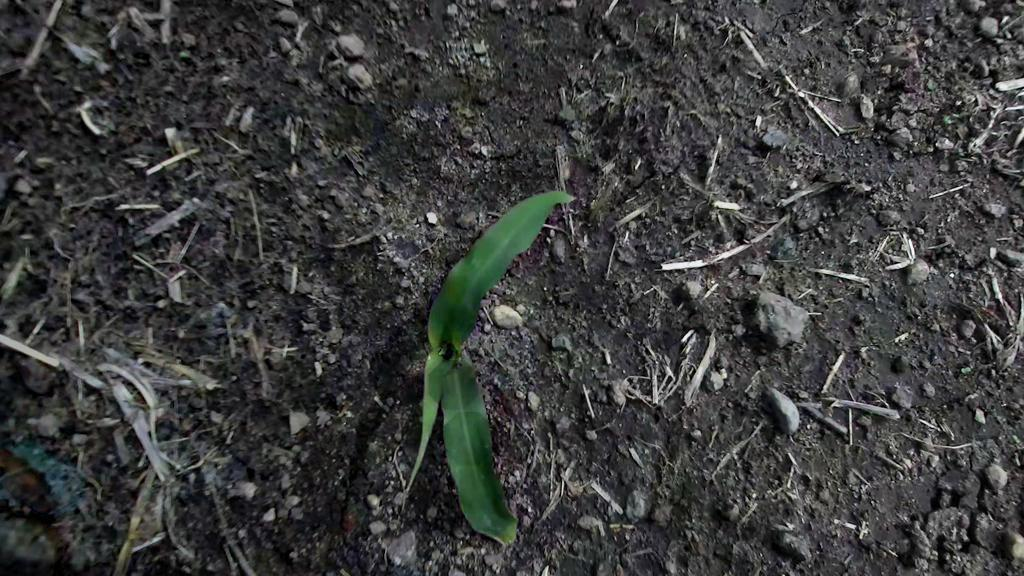BroWeed: (177, 46, 195, 63), (972, 408, 990, 425), (1010, 431, 1022, 445), (941, 114, 956, 125), (960, 366, 972, 374)
Maize: (393, 171, 577, 546)
